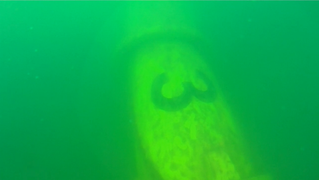3: (150, 68, 217, 111)
pipe: (113, 1, 272, 179)
